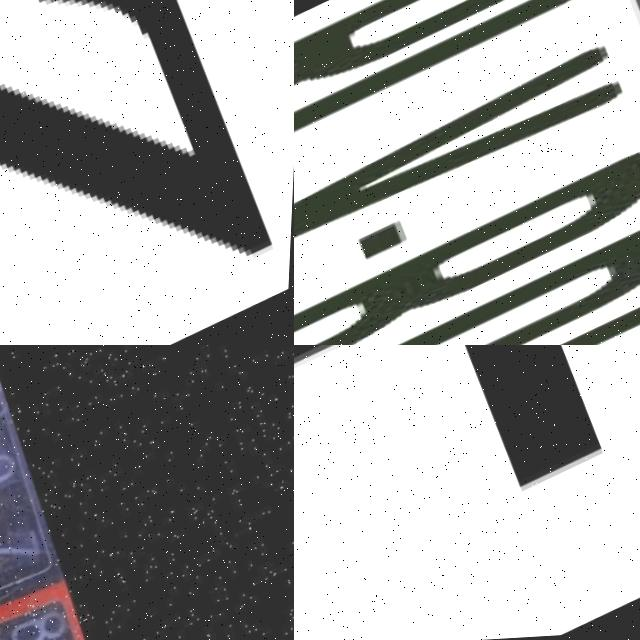7: (0, 522, 52, 586)
8: (5, 600, 81, 640)
9: (0, 443, 27, 504)
B: (294, 145, 640, 345)
D: (294, 214, 640, 345)
F: (294, 345, 640, 636)
L: (294, 0, 596, 268)
R: (294, 0, 592, 216)
V: (294, 45, 635, 345)
Z: (0, 0, 294, 345)
